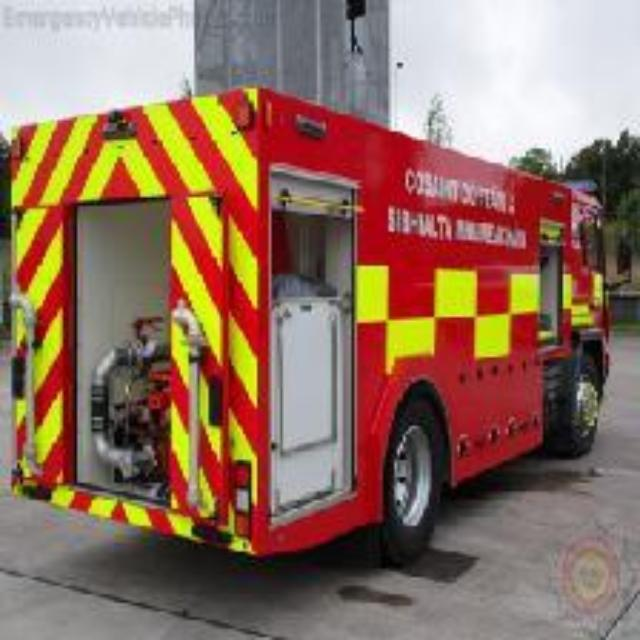emergency: (15, 104, 612, 562)
